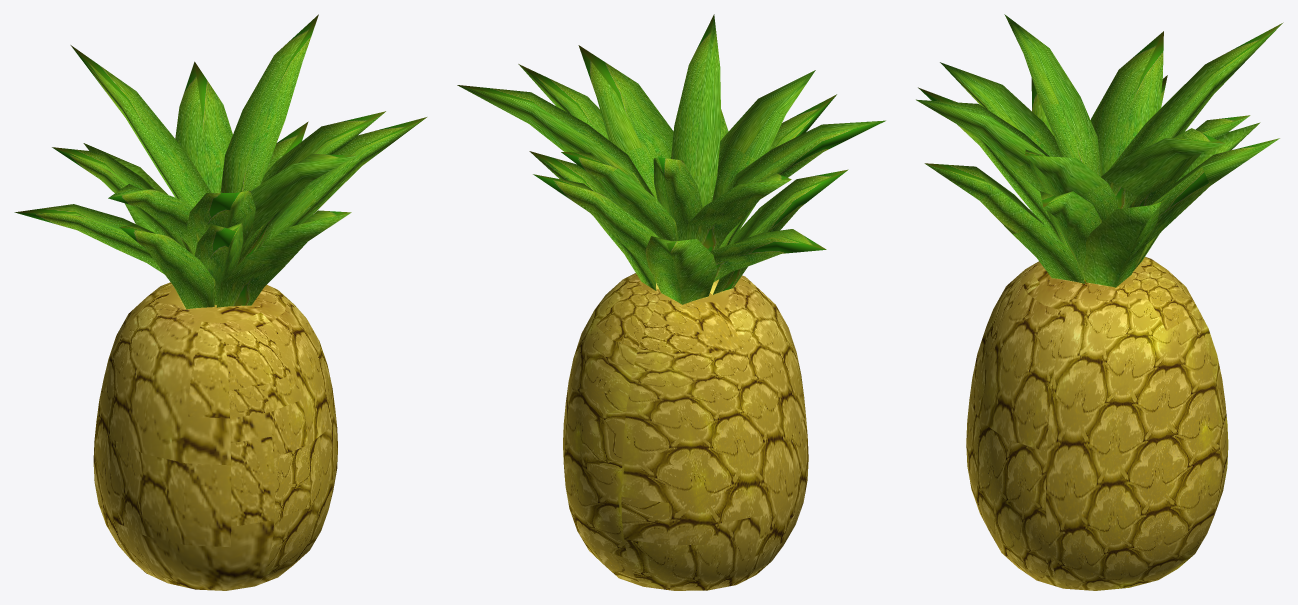
The model's file is pineapple.fbx.
3 renders of one model, left to right at view 1: azimuth 30°, elevation 25°; view 2: azimuth 150°, elevation 25°; view 3: azimuth 270°, elevation 25°, orthographic. The views are drawn at different scales.
Visible parts, largest first — view 1: Pineapple; view 2: Pineapple; view 3: Pineapple.
Boxes of the visible parts, x1,y1,x2,y2 form: Pineapple: (14, 14, 426, 590); Pineapple: (457, 14, 885, 590); Pineapple: (916, 14, 1283, 590).
Size of the model in its own units: 303 by 387 by 252.
1 material, 1 textured.
